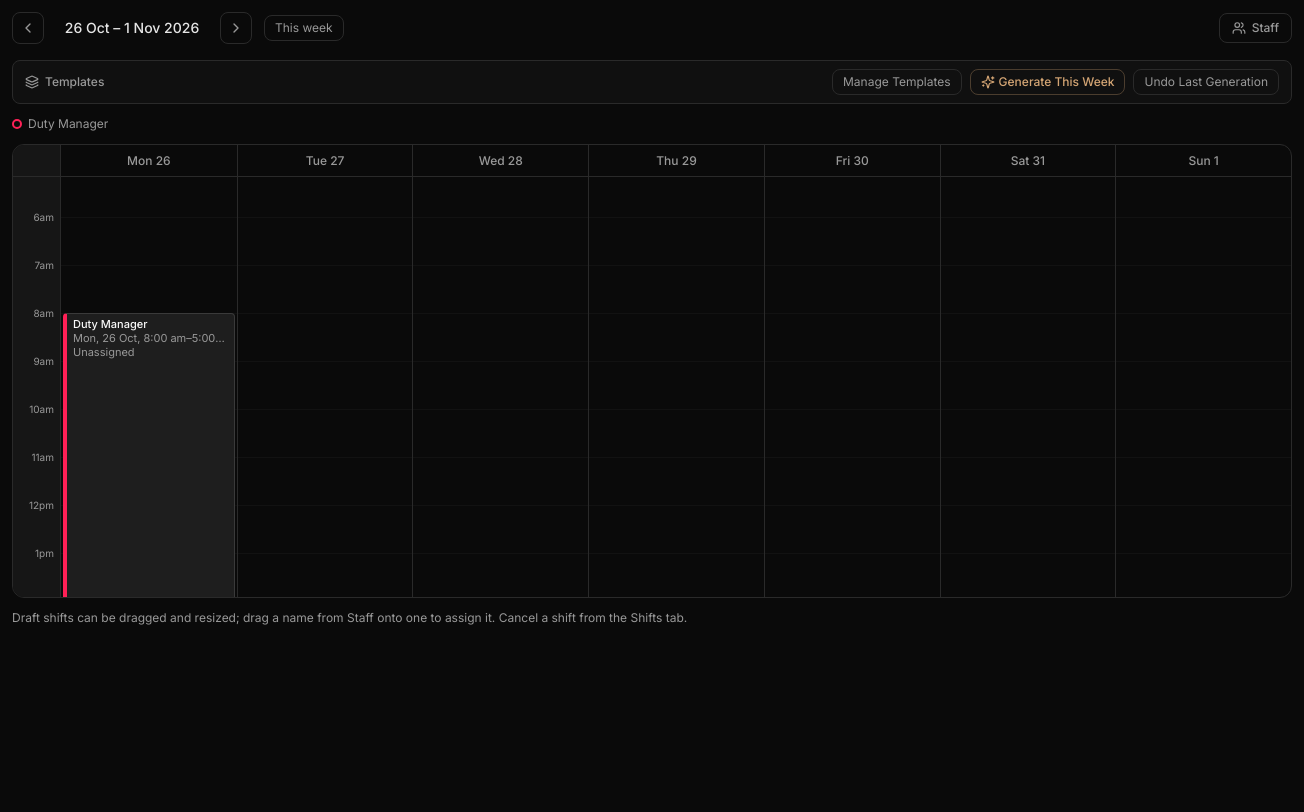
it: RosterCalendarView multi-day shift badge › a shift block's hover info follows the cursor via a fixed-position portal, not a native title attribute
The image size is (1304, 812).
(page scrolled)
Expected: the element showing "Duty Manager Mon, 26 Oct, 8:00 am–5:00 pm Unassigned" is shown, top-left (63, 313), bottom-right (235, 597)
Hover over the element showing "Duty Manager Mon, 26 Oct, 8:00 am–5:00 pm Unassigned".
mouse_move(149, 529)  # box top-left (63, 313), bottom-right (235, 745)
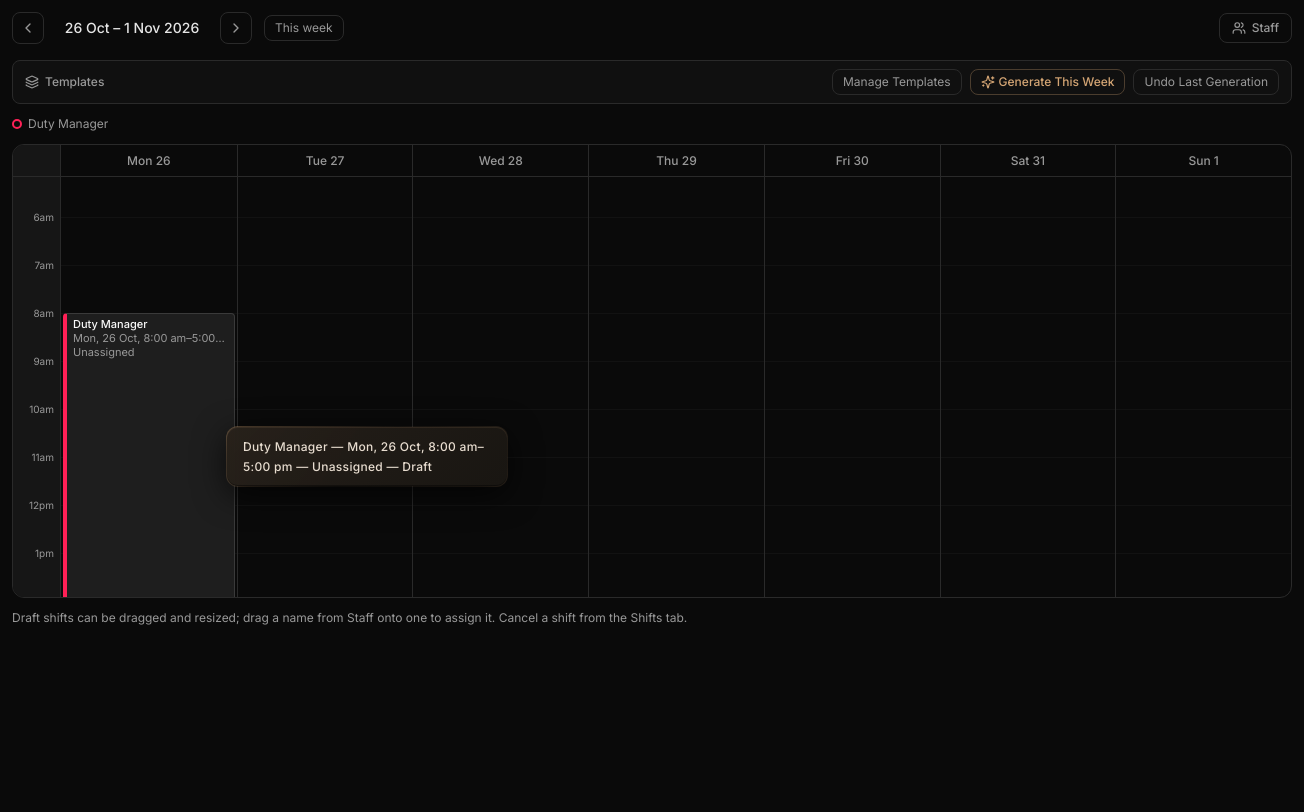
Expected: the element with class "z-50" is shown, top-left (226, 426), bottom-right (508, 487)
Expected: the element with class "z-50" shows "Duty Manager", top-left (243, 439), bottom-right (484, 474)
Expected: the element with class "z-50" shows "Unassigned", top-left (243, 439), bottom-right (484, 474)
Move the pointer off the element showing "Duty Manager Mon, 26 Oct, 8:00 am–5:00 pm Unassigned", box top-left (63, 313), bottom-right (235, 745)
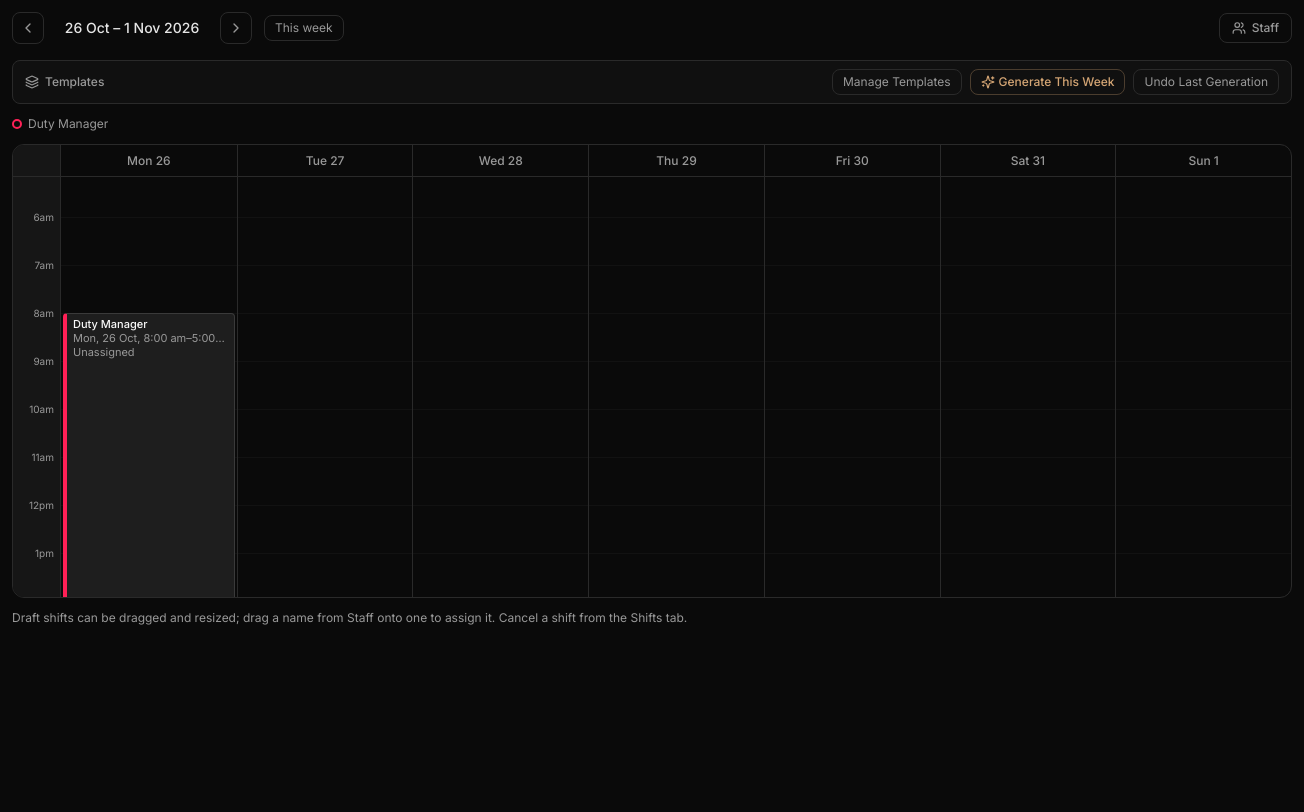
Expected: the element with class "z-50" is gone
